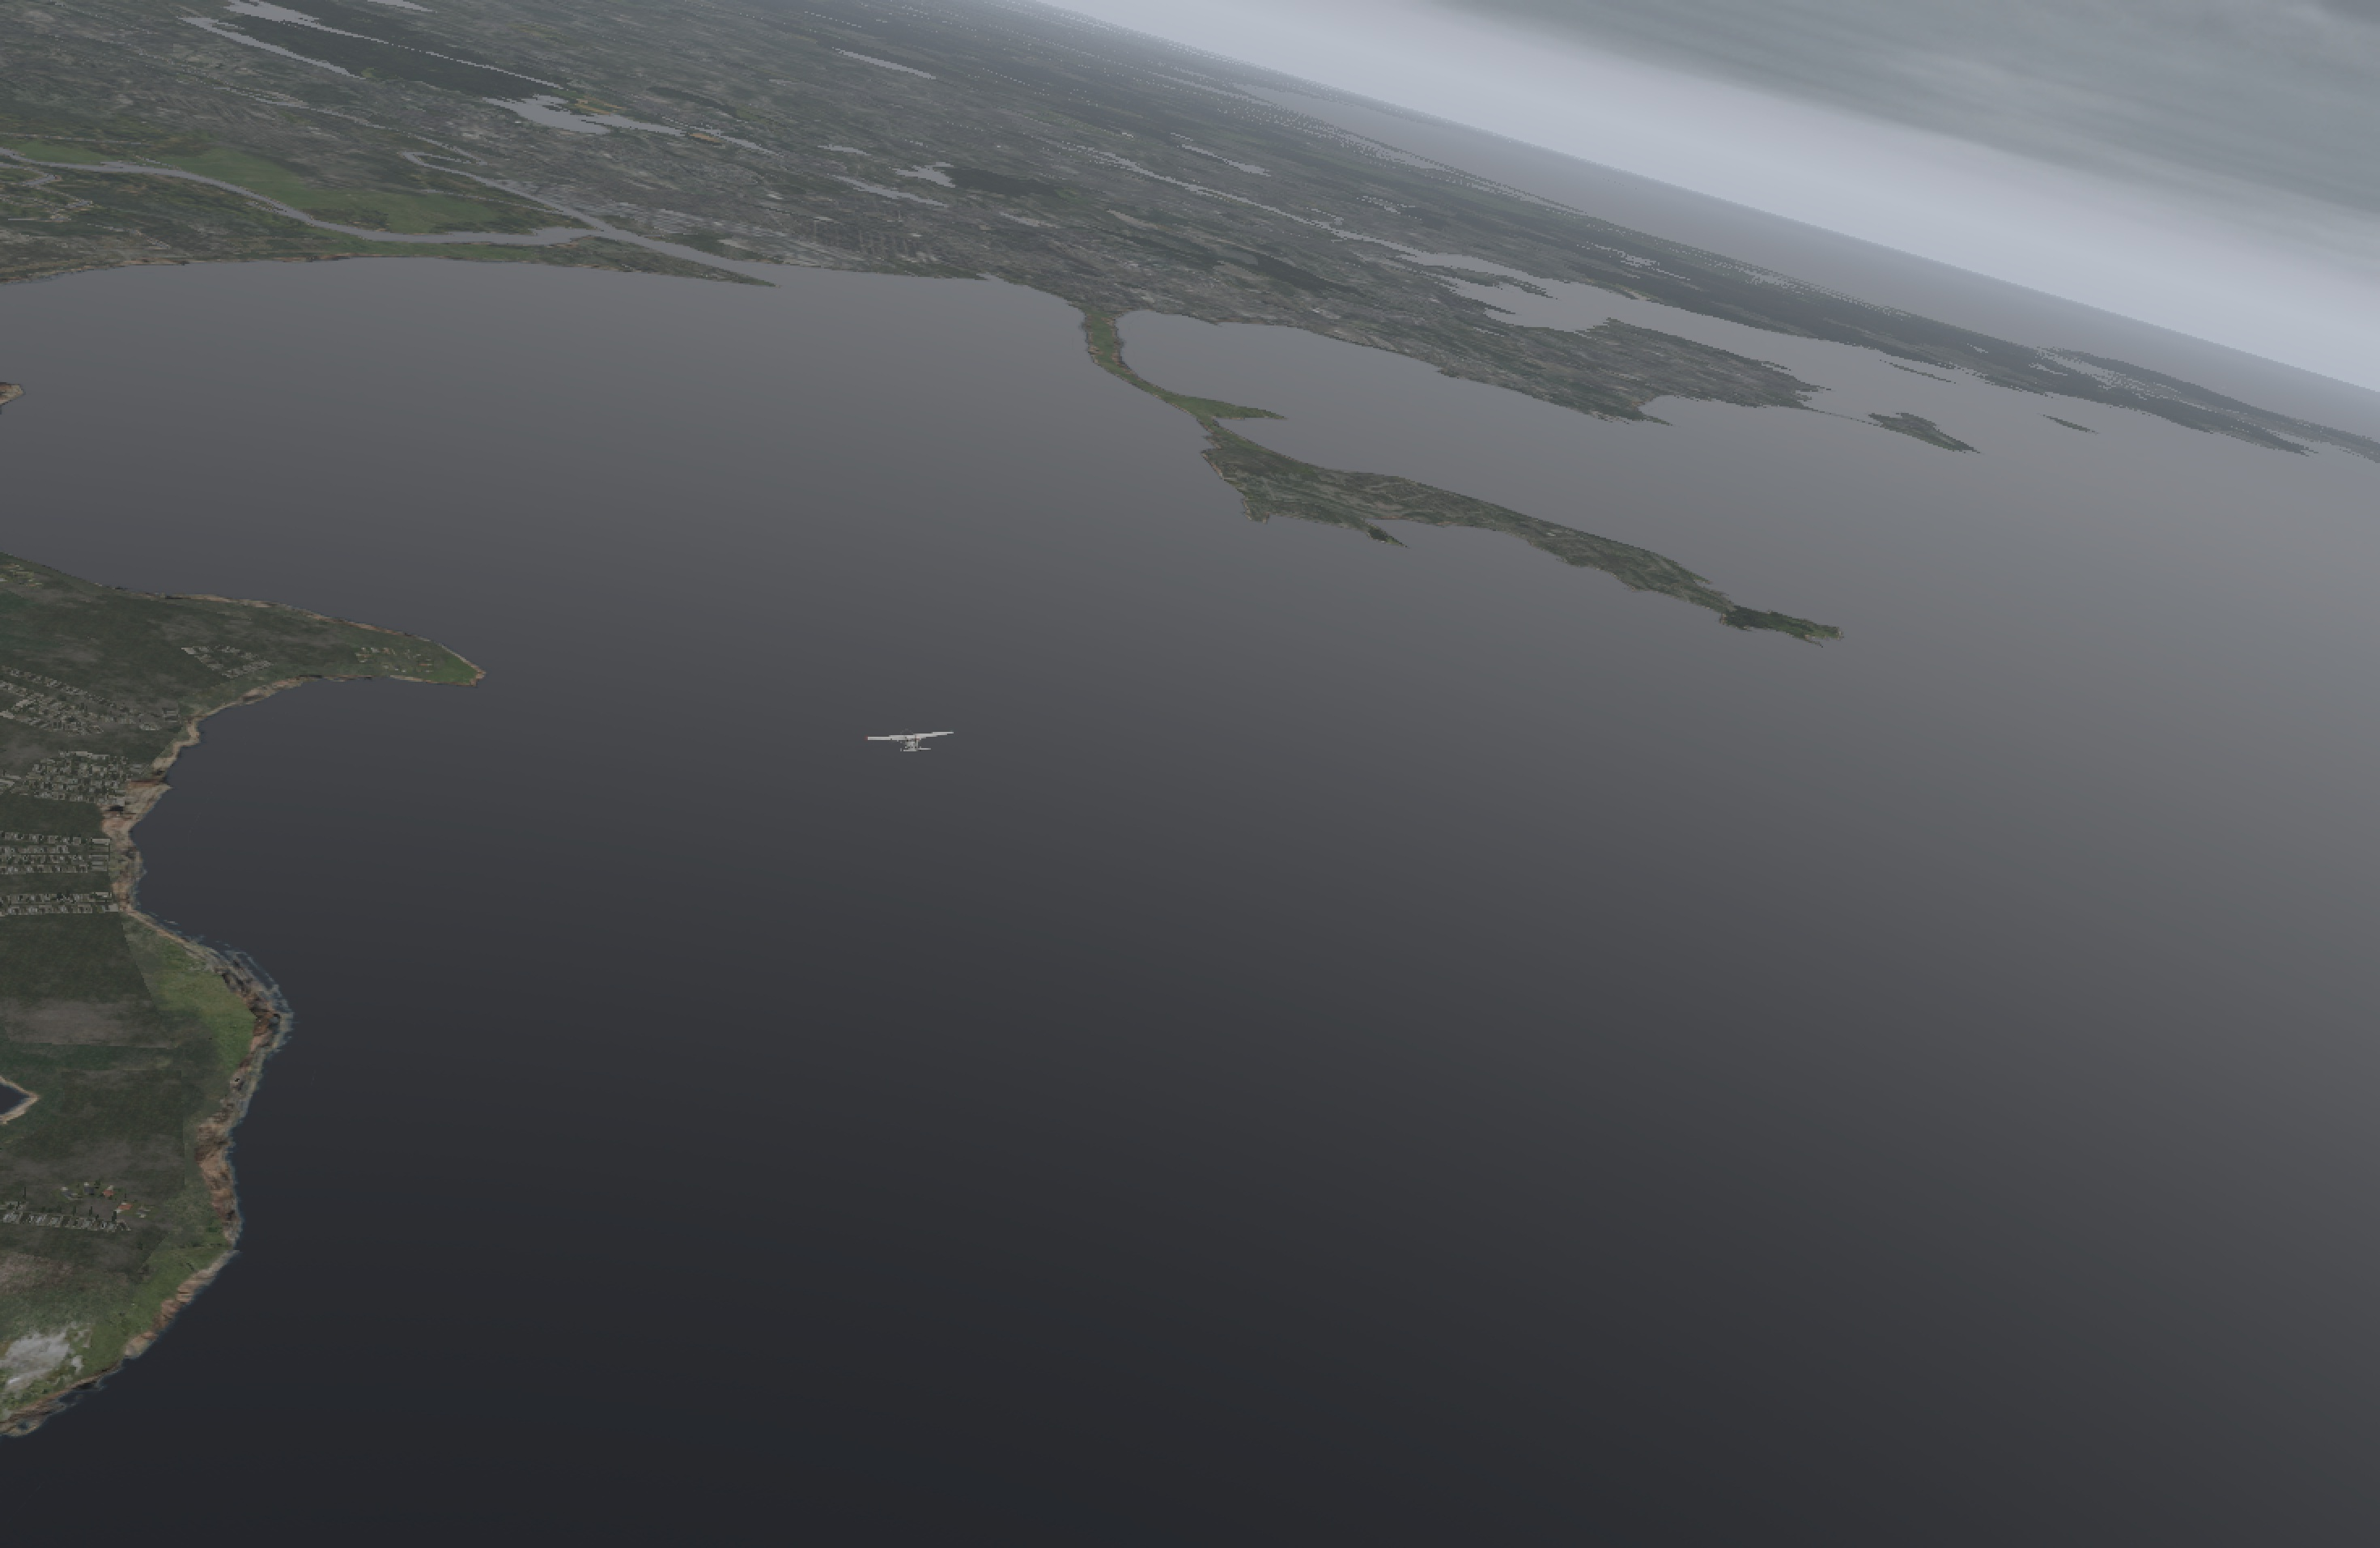aircraft: (879, 729, 940, 751)
